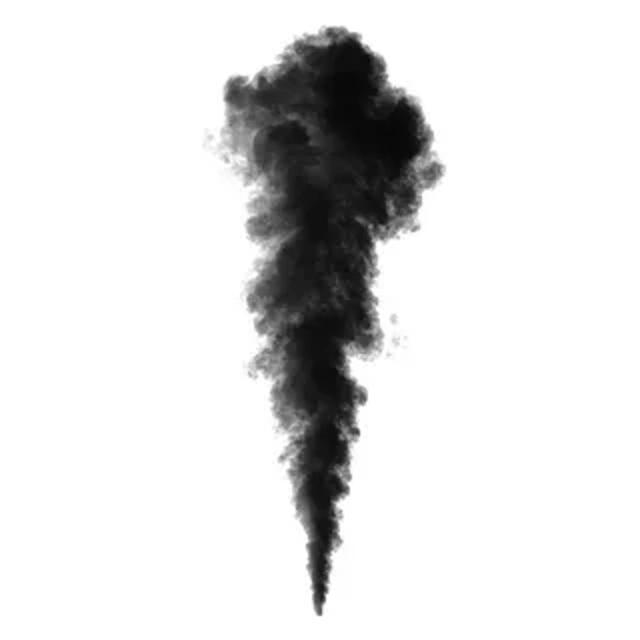Smoke: (205, 27, 446, 616)
